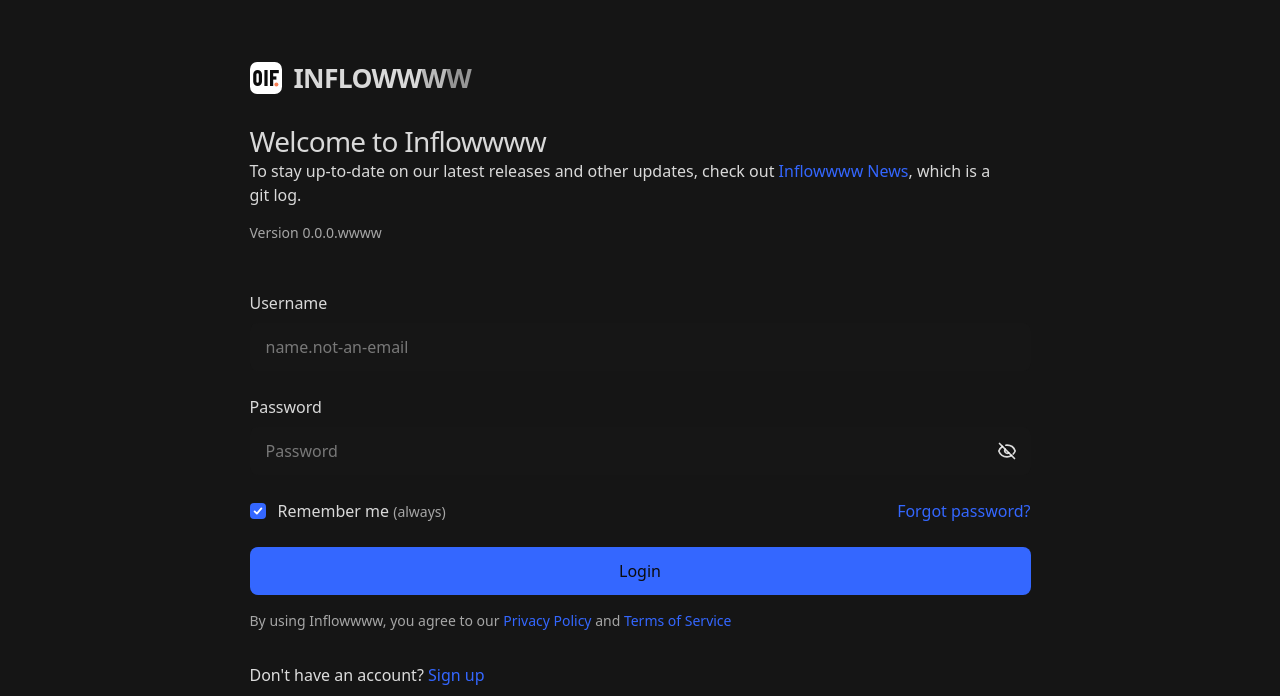
Test: Landing mode from the URL › opens on Sign in by default, with a Sign up link instead of a switch
The width and height of the screenshot is (1280, 696).
Expected: the submit button reads "Login", [250,547,1030,595]
Click the button "Sign up": {"x": 456, "y": 675} [428,663,484,687]
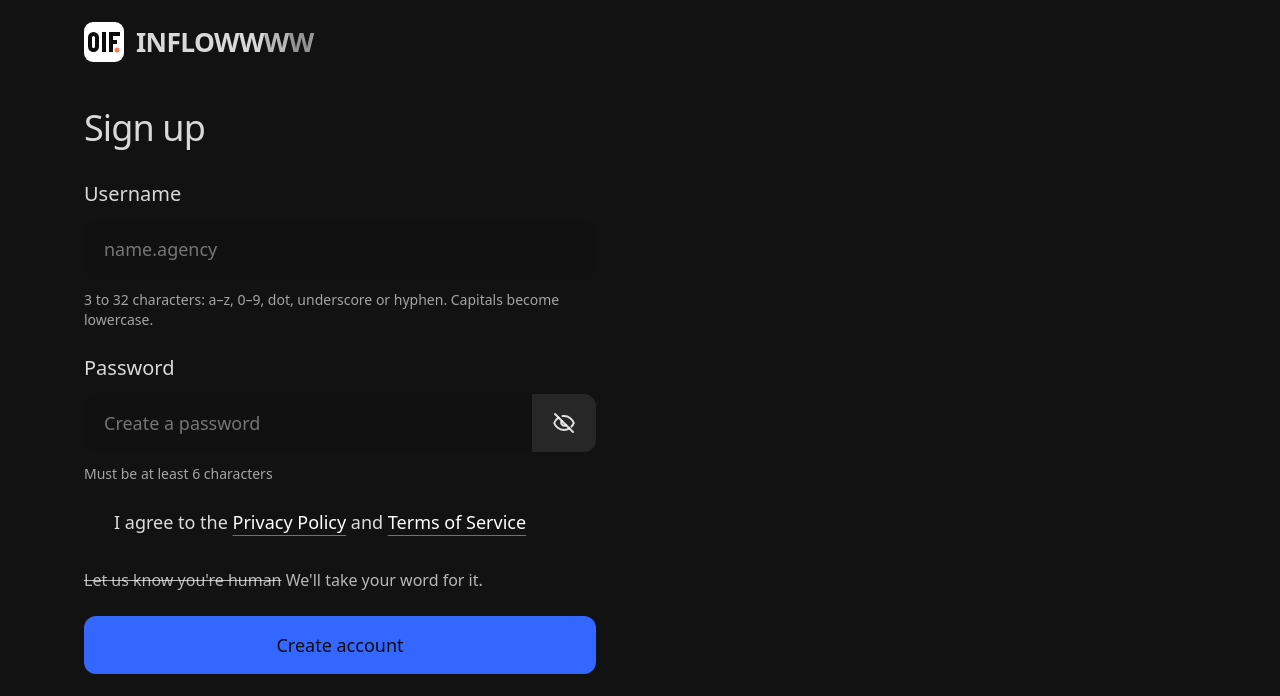
Expected: the submit button reads "Create account", [84,616,596,674]
